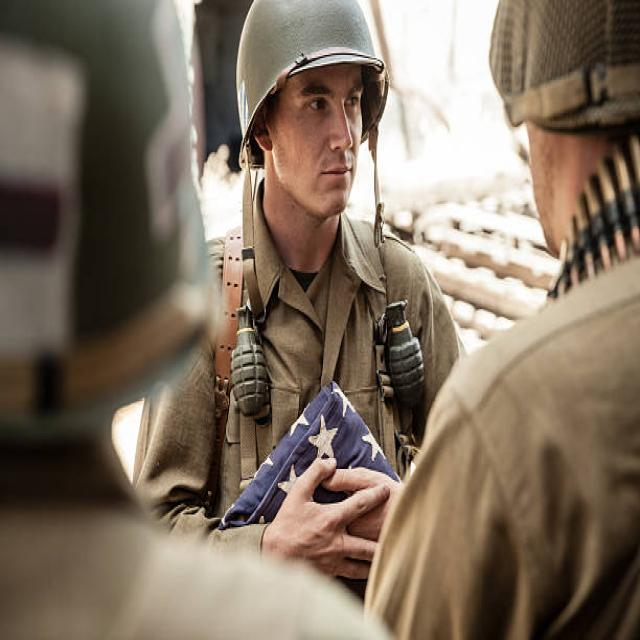grenade: (386, 296, 428, 412), (233, 306, 274, 419)
